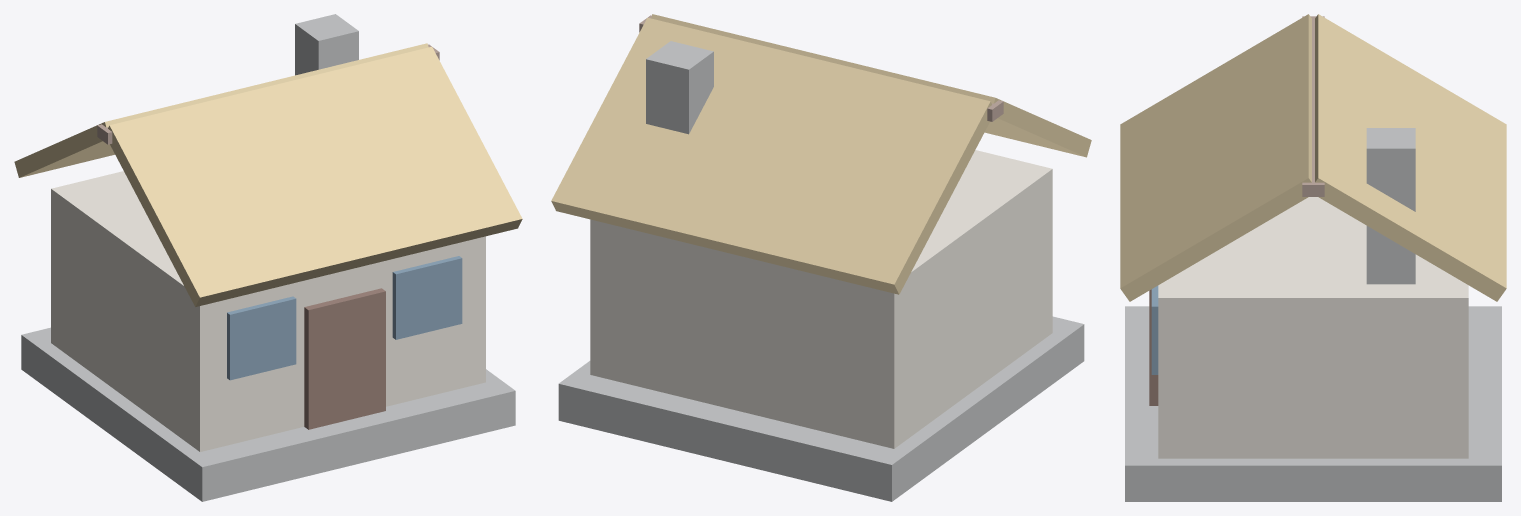
Rendered from FARMER_HOUSE.glb.
3 renders of one model, left to right at view 1: azimuth 30°, elevation 25°; view 2: azimuth 150°, elevation 25°; view 3: azimuth 270°, elevation 25°, orthographic. The views are drawn at different scales.
Visible parts, largest first — view 1: FARMER_HOUSE; view 2: FARMER_HOUSE; view 3: FARMER_HOUSE.
Part boxes in pixels (bbox=[...]): FARMER_HOUSE: bbox=[14, 14, 522, 501]; FARMER_HOUSE: bbox=[551, 14, 1091, 501]; FARMER_HOUSE: bbox=[1120, 14, 1506, 501].
Size of the model in its own units: 1.8 by 1.65 by 1.74.
